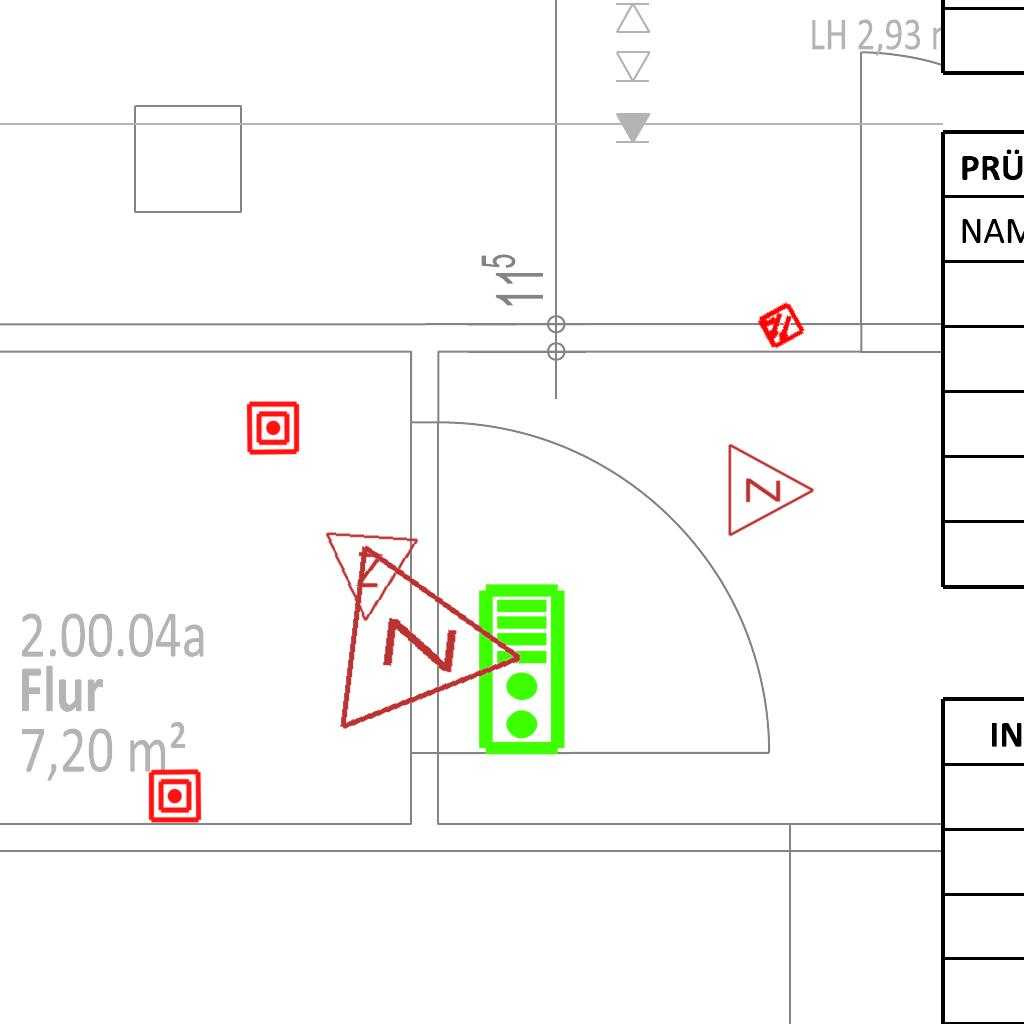Gegensprechanlage_mit_Video: (476, 582, 571, 758)
NAM-Nichtautomatischer_Melder: (147, 768, 203, 824), (245, 400, 301, 456)
OT_Multisensormelder_(Kombination_RMO_WMD): (741, 287, 819, 365)
Zimmersignalleuchte: (324, 535, 548, 755), (317, 524, 423, 632), (721, 440, 821, 538)
